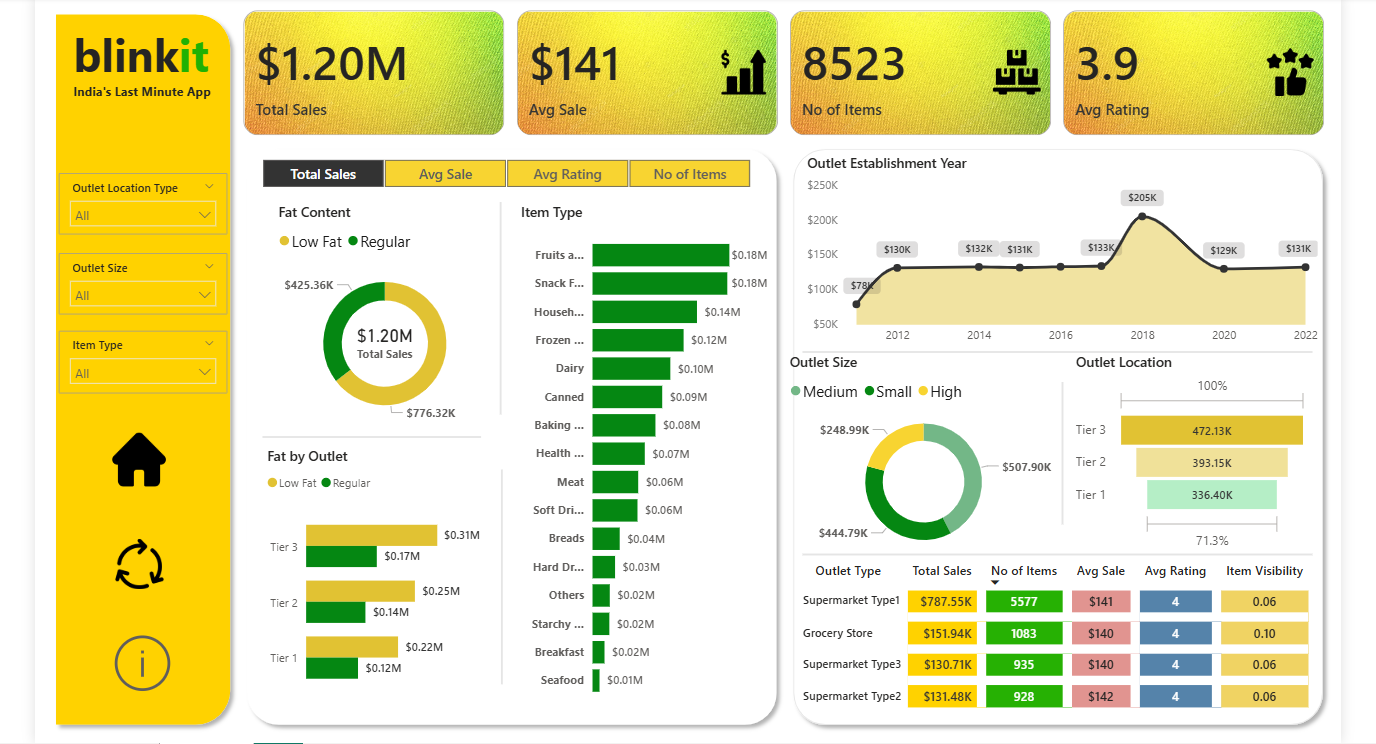

The page's visual inventory and layout, read from the dashboard file:
{"tool":"powerbi","page":{"name":"Page 1","canvas":[1400,800],"ordinal":0},"visuals":[{"type":"shape","box":[13.4,9.4,205.1,780.2],"z":0},{"type":"textbox","box":[36.2,24.1,170.2,76.4],"z":1000},{"type":"textbox","box":[36.2,87.1,195.7,49.6],"z":2000},{"type":"cardVisual","fields":{"Data":["Sheet1.Total Sales","Sheet1.Avg Sale","Sheet1.No of Items","Sheet1.Avg Rating"]},"box":[218.6,10,1171.4,144.3],"z":3000},{"type":"shape","box":[218.5,154.2,585.8,635.4],"z":4000},{"type":"donutChart","title":"Fat Content","fields":{"Y":["Sheet1.Total Sales"],"Category":["Sheet1.Item Fat Content"]},"box":[256,219.8,238.6,252],"z":5000},{"type":"slicer","fields":{"Values":["Metrics.Metrics"]},"box":[218.5,167.6,572.4,42.9],"z":6000},{"type":"cardVisual","fields":{"Data":["Sheet1.Total Sales"]},"box":[323.1,332.4,104.6,77.7],"z":7000},{"type":"clusteredBarChart","title":"Fat by Outlet ","fields":{"Y":["Sheet1.Total Sales"],"Category":["Sheet1.Outlet Location Type"],"Series":["Sheet1.Item Fat Content"]},"box":[244,481.2,238.6,281.5],"z":8000},{"type":"clusteredBarChart","title":" Item Type","fields":{"Y":["Sheet1.Total Sales"],"Category":["Sheet1.Item Type"]},"box":[516.1,219.8,274.8,542.9],"z":9000},{"type":"shape","box":[804.3,154.2,585.8,635.4],"z":10000},{"type":"lineChart","title":" Outlet Establishment Year","fields":{"Category":["Sheet1.Outlet Establishment Year"],"Y":["Sheet1.Total Sales"]},"box":[823.1,167.6,557.6,213.1],"z":11000},{"type":"shape","box":[823.1,245.3,546.9,270.8],"z":12000},{"type":"donutChart","title":"Outlet Size","fields":{"Y":["Sheet1.Total Sales"],"Category":["Sheet1.Outlet Size"]},"box":[804.3,380.7,297.6,226.5],"z":13000},{"type":"funnel","title":"Outlet Location ","fields":{"Y":["Sum(Sheet1.Sales)"],"Category":["Sheet1.Outlet Location Type"]},"box":[1111.3,380.7,258.7,217.2],"z":14000},{"type":"shape","box":[867.3,412.9,469.2,152.8],"z":15000},{"type":"shape","box":[823.1,462.5,546.9,270.8],"z":16000},{"type":"pivotTable","fields":{"Rows":["Sheet1.Outlet Type"],"Values":["Sheet1.Total Sales","Sheet1.No of Items","Sheet1.Avg Sale","Sheet1.Avg Rating","Avg(Sheet1.Item Visibility)"]},"box":[813.7,597.9,576.4,179.6],"z":17000},{"type":"shape","box":[270.8,219.8,457.1,227.9],"z":18000},{"type":"shape","box":[261.4,506.7,478.6,230.6],"z":19000},{"type":"shape","box":[244,336.5,234.6,270.8],"z":20000},{"type":"slicer","fields":{"Values":["Sheet1.Outlet Location Type"]},"box":[25.5,189,181,65.7],"z":21000},{"type":"slicer","fields":{"Values":["Sheet1.Outlet Size"]},"box":[25.5,274.8,181,65.7],"z":22000},{"type":"slicer","fields":{"Values":["Sheet1.Item Type"]},"box":[25.5,357.9,181,67],"z":23000},{"type":"actionButton","box":[77.7,676.9,88.5,75.1],"z":24000},{"type":"actionButton","box":[87.1,473.2,46.9,67],"z":25000},{"type":"image","box":[76.4,462.5,71,67],"z":26000},{"type":"actionButton","box":[87.1,576.4,60.3,63],"z":27000},{"type":"image","box":[76.4,576.4,71,63],"z":28000}]}

Visuals, with their boxes on the page's 1400x800 design canvas (x1, y1, x2, y2). These are canvas units, not pixel positions in the 1376x744 screenshot, which may show the page scaled, cropped or inside an application window:
shape: x1=13 y1=9 x2=218 y2=790
textbox: x1=36 y1=24 x2=206 y2=100
textbox: x1=36 y1=87 x2=232 y2=137
cardVisual - Sheet1.Total Sales x Sheet1.Avg Sale: x1=219 y1=10 x2=1390 y2=154
shape: x1=218 y1=154 x2=804 y2=790
"Fat Content" donutChart: x1=256 y1=220 x2=495 y2=472
slicer - Metrics.Metrics: x1=218 y1=168 x2=791 y2=210
cardVisual - Sheet1.Total Sales: x1=323 y1=332 x2=428 y2=410
"Fat by Outlet " clusteredBarChart: x1=244 y1=481 x2=483 y2=763
" Item Type" clusteredBarChart: x1=516 y1=220 x2=791 y2=763
shape: x1=804 y1=154 x2=1390 y2=790
" Outlet Establishment Year" lineChart: x1=823 y1=168 x2=1381 y2=381
shape: x1=823 y1=245 x2=1370 y2=516
"Outlet Size" donutChart: x1=804 y1=381 x2=1102 y2=607
"Outlet Location " funnel: x1=1111 y1=381 x2=1370 y2=598
shape: x1=867 y1=413 x2=1336 y2=566
shape: x1=823 y1=462 x2=1370 y2=733
pivotTable - Sheet1.Outlet Type x Sheet1.Total Sales: x1=814 y1=598 x2=1390 y2=778
shape: x1=271 y1=220 x2=728 y2=448
shape: x1=261 y1=507 x2=740 y2=737
shape: x1=244 y1=336 x2=479 y2=607
slicer - Sheet1.Outlet Location Type: x1=26 y1=189 x2=206 y2=255
slicer - Sheet1.Outlet Size: x1=26 y1=275 x2=206 y2=340
slicer - Sheet1.Item Type: x1=26 y1=358 x2=206 y2=425
actionButton: x1=78 y1=677 x2=166 y2=752
actionButton: x1=87 y1=473 x2=134 y2=540
image: x1=76 y1=462 x2=147 y2=530
actionButton: x1=87 y1=576 x2=147 y2=639
image: x1=76 y1=576 x2=147 y2=639
